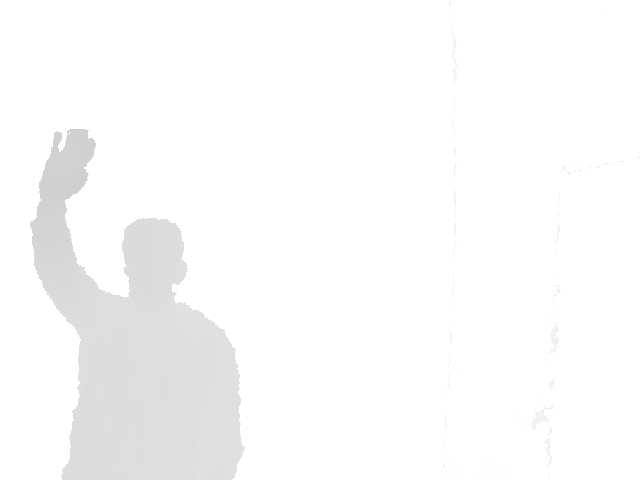hand: (39, 126, 97, 201)
head: (119, 217, 188, 301)
person: (28, 127, 246, 479)
